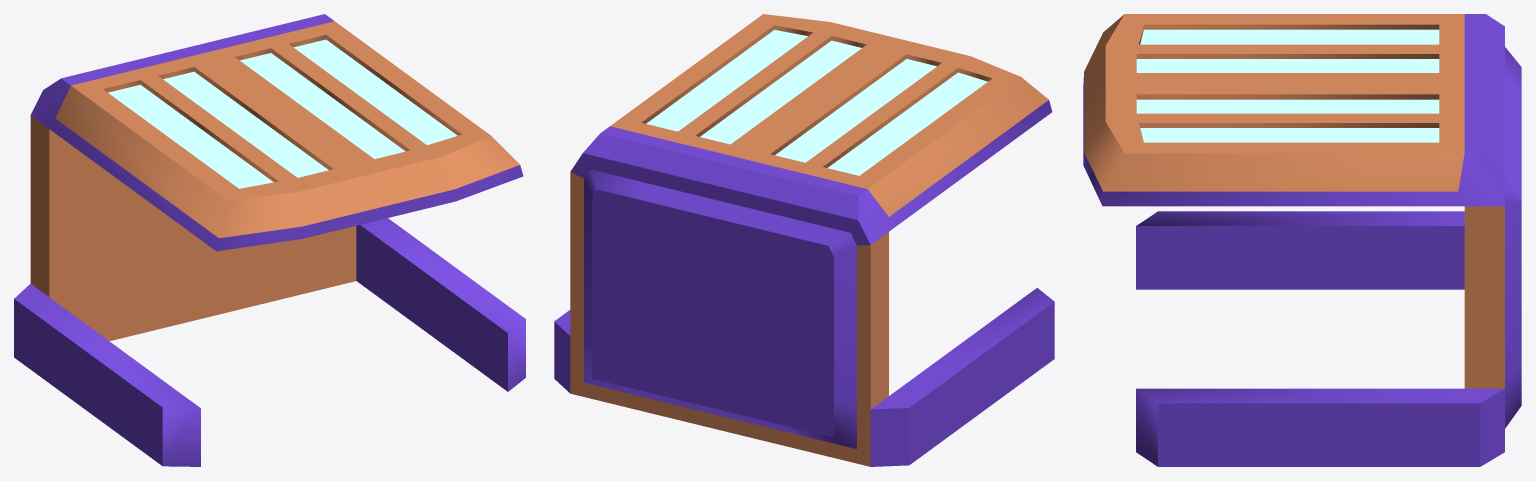
The model's file is Stanley_Dock.fbx.
3 renders of one model, left to right at view 1: azimuth 30°, elevation 25°; view 2: azimuth 150°, elevation 25°; view 3: azimuth 270°, elevation 25°, orthographic. The views are drawn at different scales.
Parts seen in each view (by area): view 1: Stanley_Dock; view 2: Stanley_Dock; view 3: Stanley_Dock.
Boxes of the visible parts, x1,y1,x2,y2 form: Stanley_Dock: [14, 14, 525, 466]; Stanley_Dock: [554, 14, 1054, 466]; Stanley_Dock: [1083, 14, 1521, 466].
Size of the model in its own units: 307 by 215 by 297.
